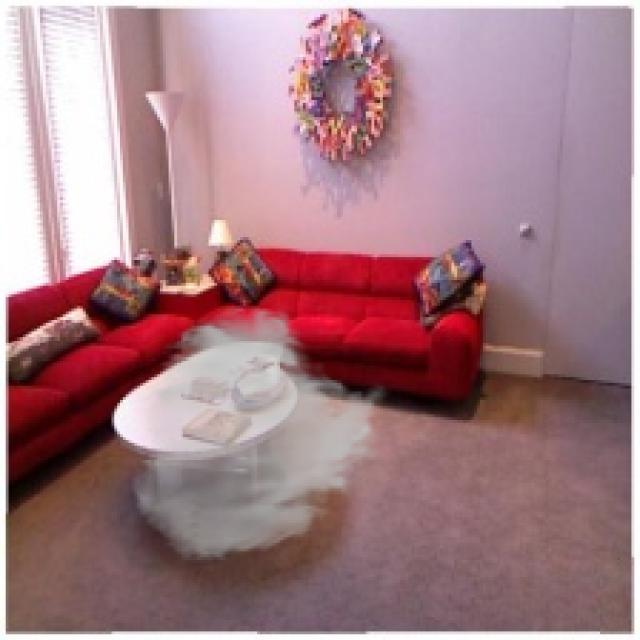smoke: (128, 303, 392, 563)
